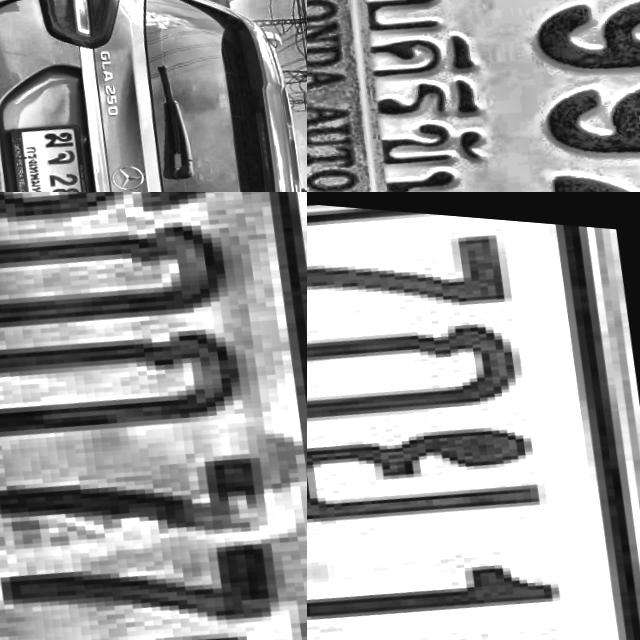license-plate: (307, 192, 640, 640), (0, 192, 307, 640), (307, 0, 640, 192), (5, 112, 100, 192)
